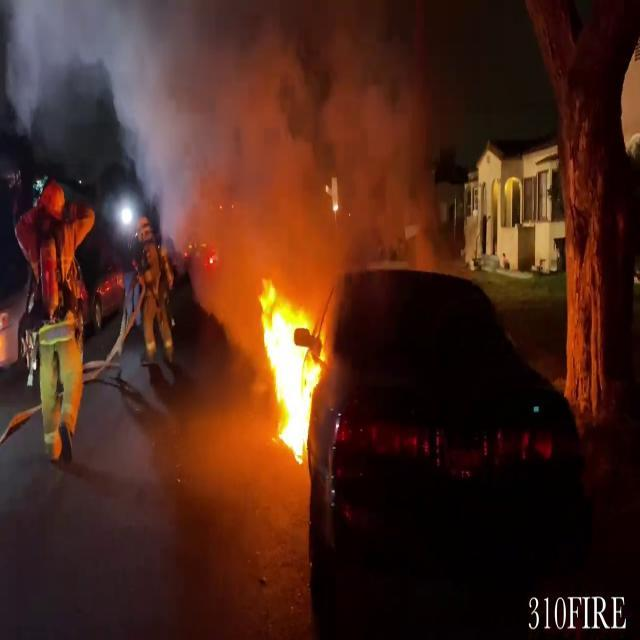Fire: (254, 282, 328, 464)
Smoke: (148, 0, 448, 284)
